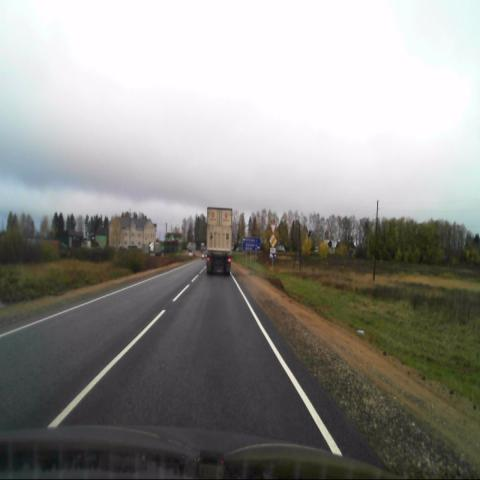2_2: (269, 234, 277, 247)
